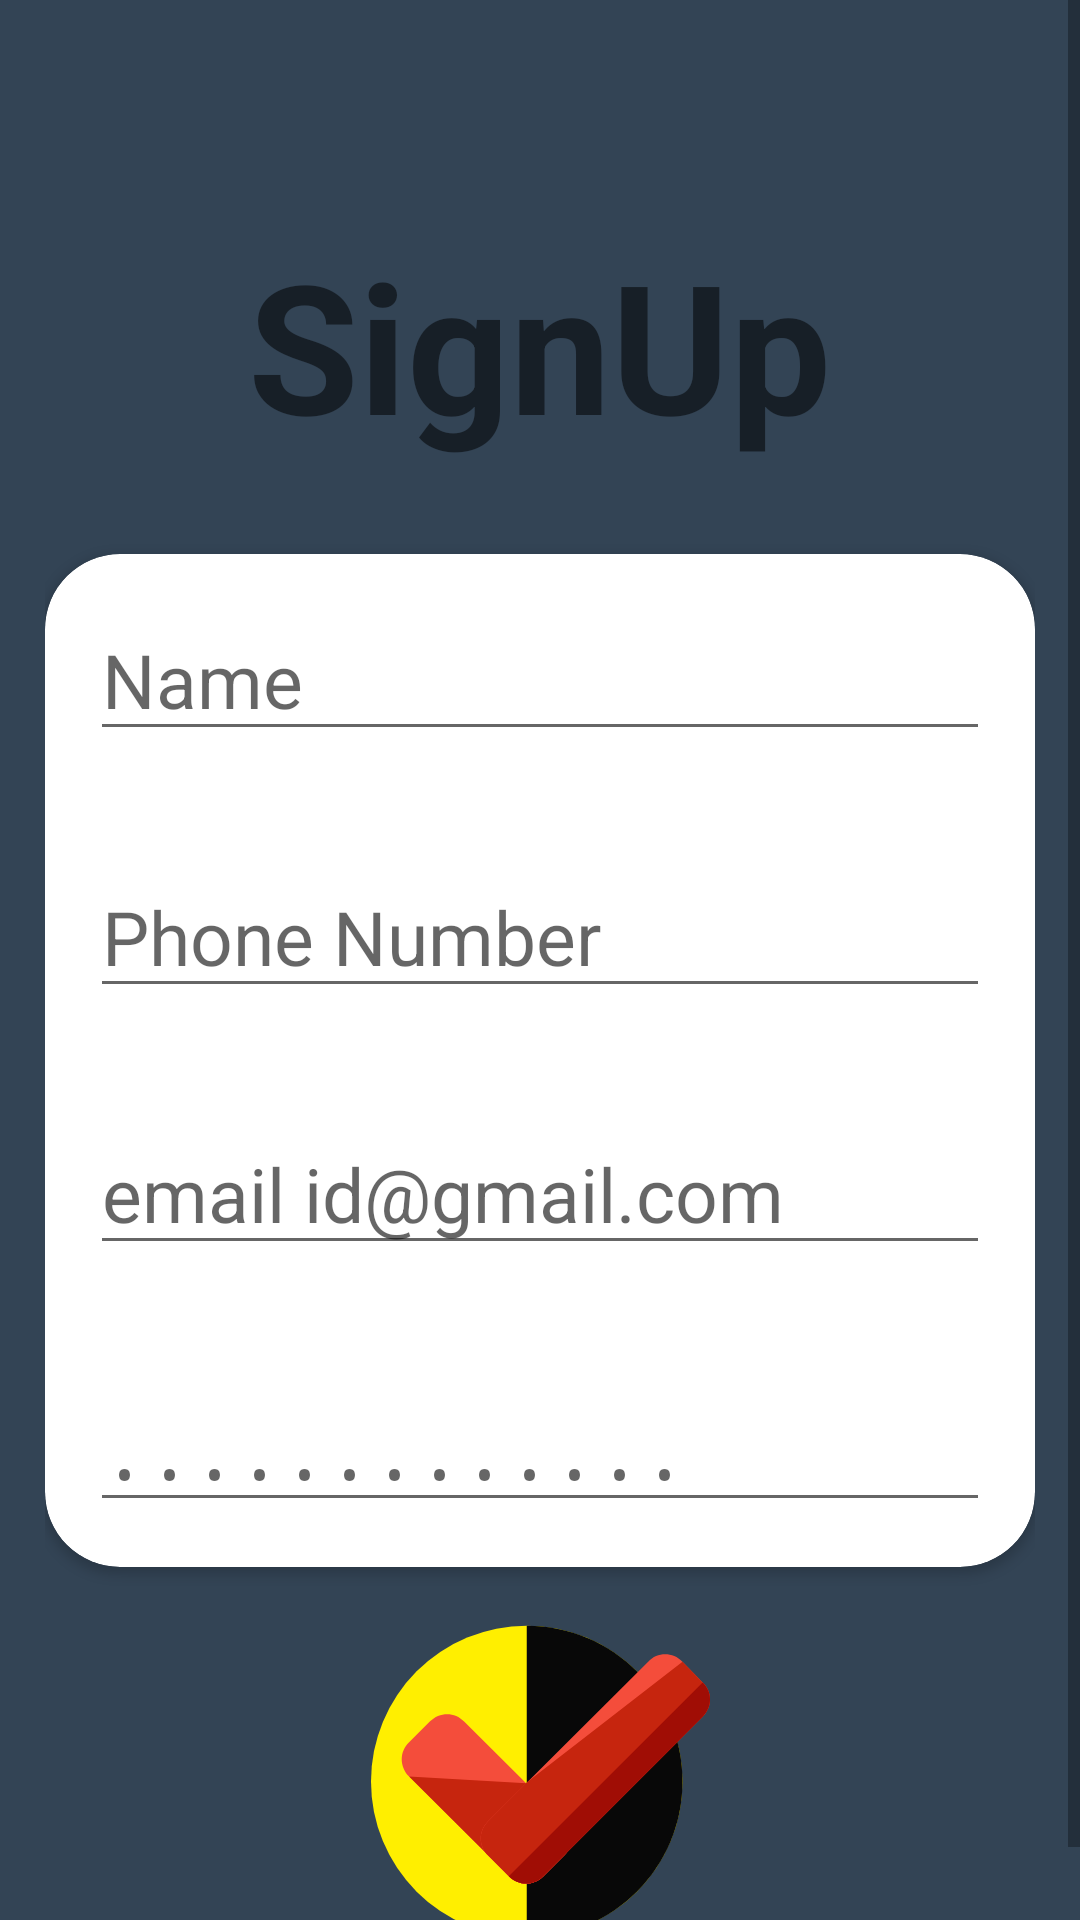

Icon click points for this 1080*1920 phone screenshot, format (x=x, y=y):
checked: (x=540, y=1772)
